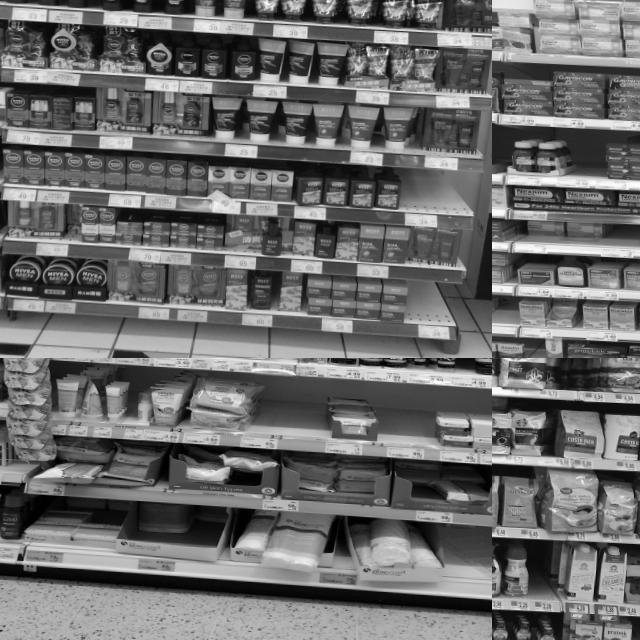100% O.O.S: (575, 136, 607, 189), (606, 223, 640, 260), (494, 296, 518, 335), (524, 338, 545, 358)
100- O.O.S: (256, 376, 326, 452), (378, 383, 435, 459), (443, 526, 492, 599), (400, 170, 460, 228), (408, 282, 452, 338), (530, 545, 554, 611), (457, 358, 475, 387)
